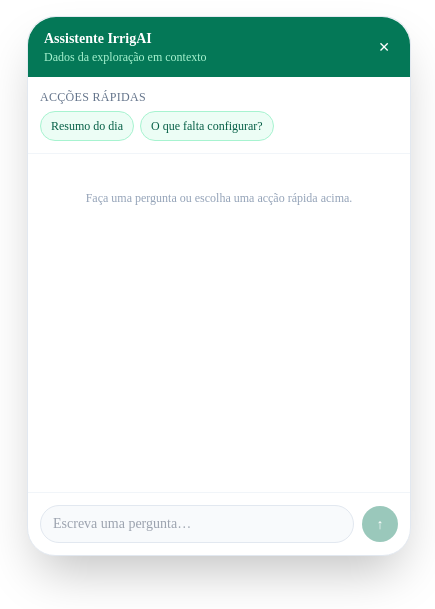
Test: ChatPanel › reuses retry identity only for unchanged text (changed: true)
This screenshot has width=435, height=609.
Type "primeira" into the field with placeholder "Escreva uma pergunta…".
click(197, 524); type("primeira")  # box [40,505,354,543]
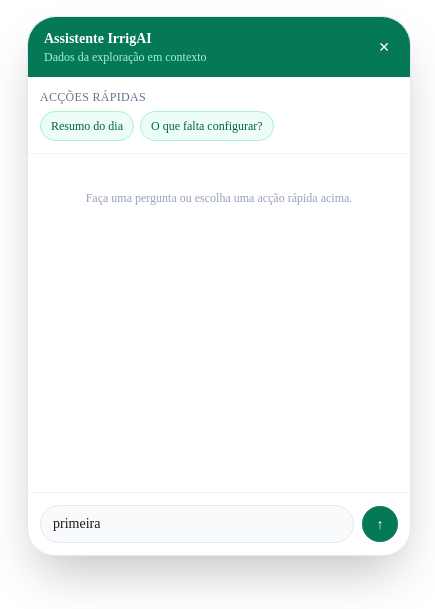
Click the button named "Enviar".
click(380, 524)  # box [362,506,398,542]
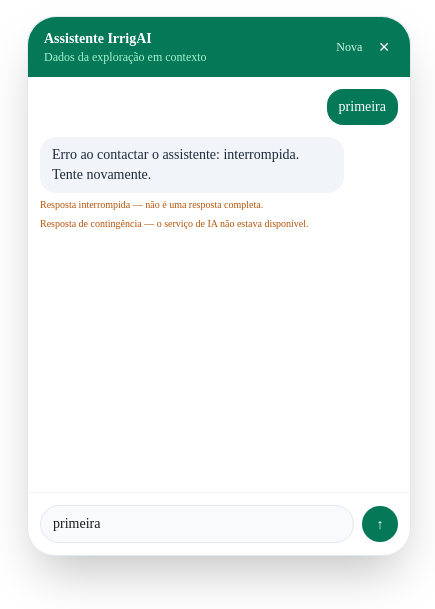
Now the text "Erro ao contactar" is shown, box [52,147,302,182]
Replace the text in the field with placeholder "Escreva uma pergunta…" with "alterada" at (197, 524), box [40,505,354,543]
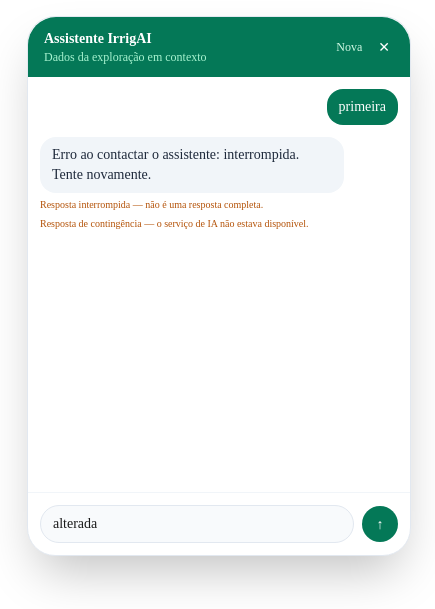
Click the button named "Enviar".
click(380, 524)  # box [362,506,398,542]
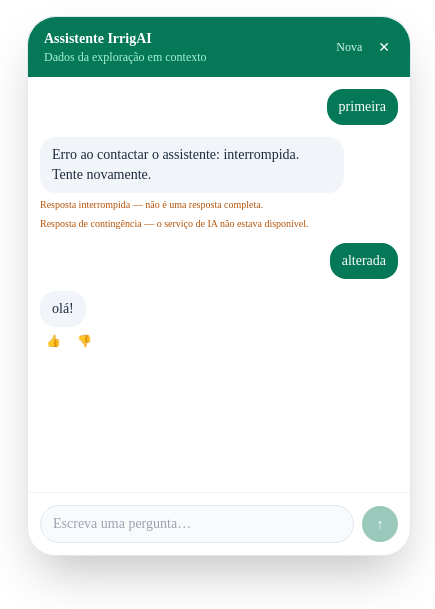
Expected: the text "primeira" is shown once, [327,89,398,125]
Now the text "olá!" is shown, box [40,291,86,327]
